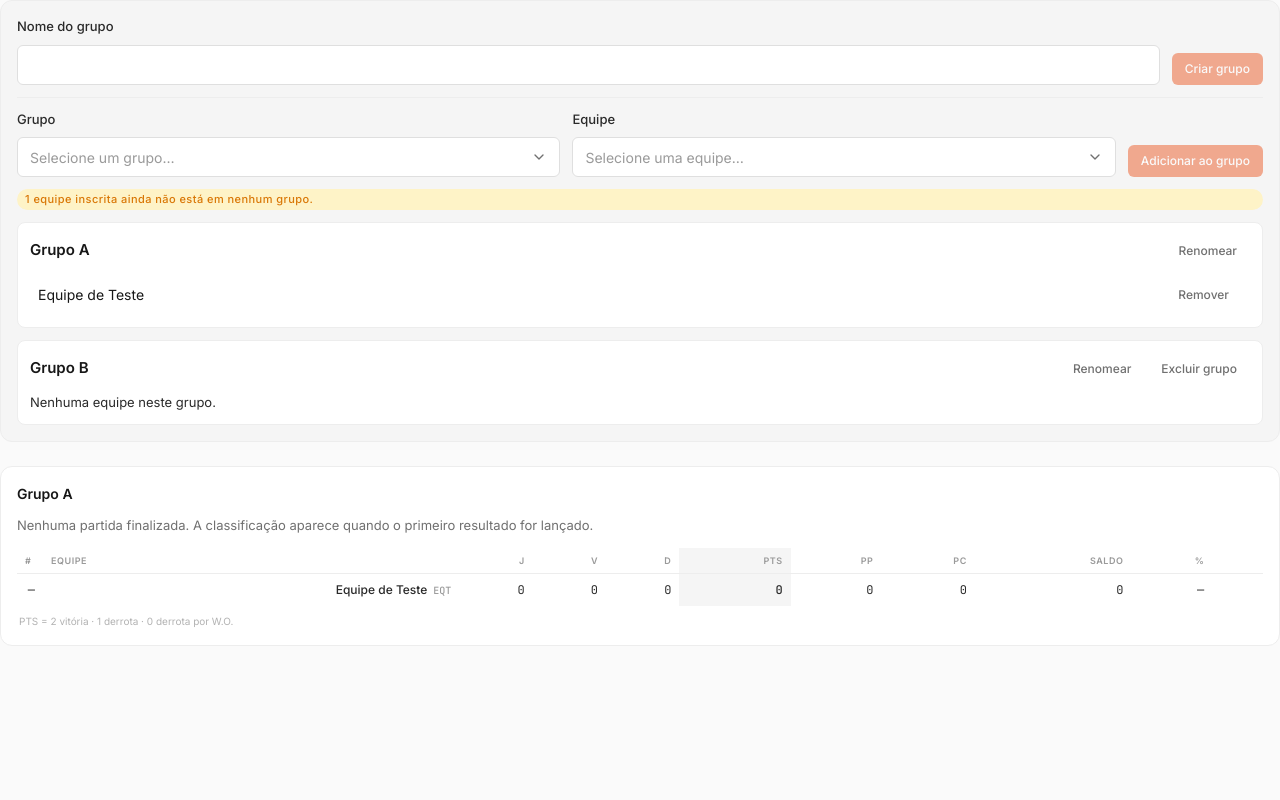
Test case: GroupsTab › explains a duplicate group name from the api error code
This screenshot has width=1280, height=800.
Type "Grupo A" into the field labelled "Nome do grupo" at (588,64), box [17,44,1160,84]
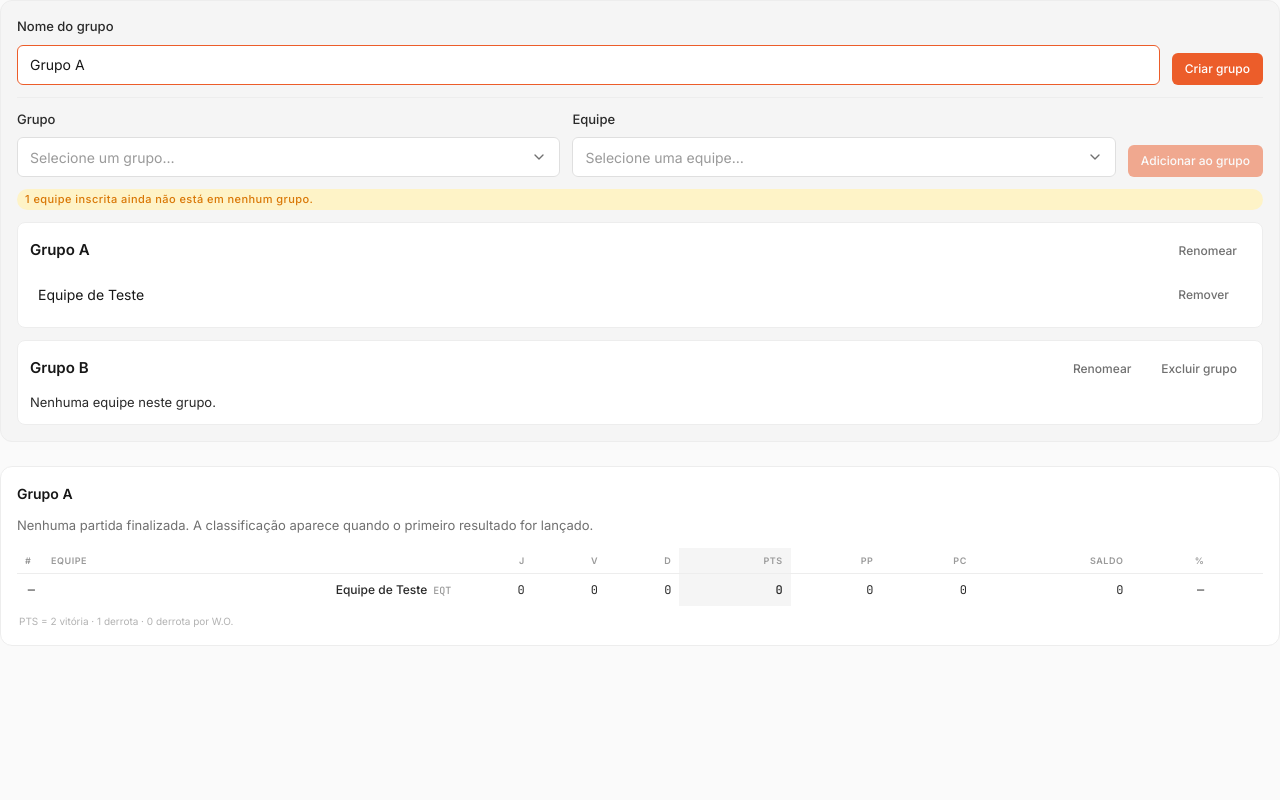
Click the button "Criar grupo" at (1217,68), box [1172,52,1263,84]
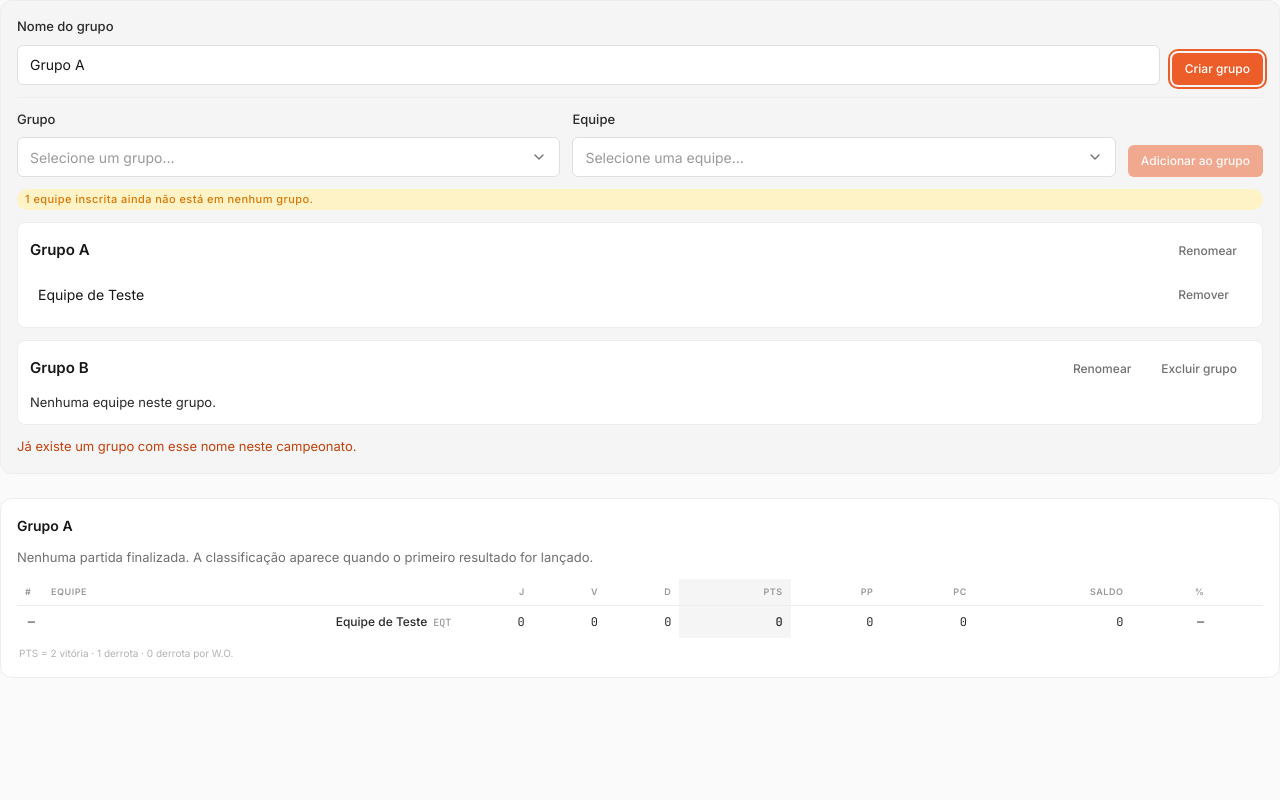
Now the message reads "Já existe um grupo com esse nome neste campeonato.", box [17,438,356,454]
